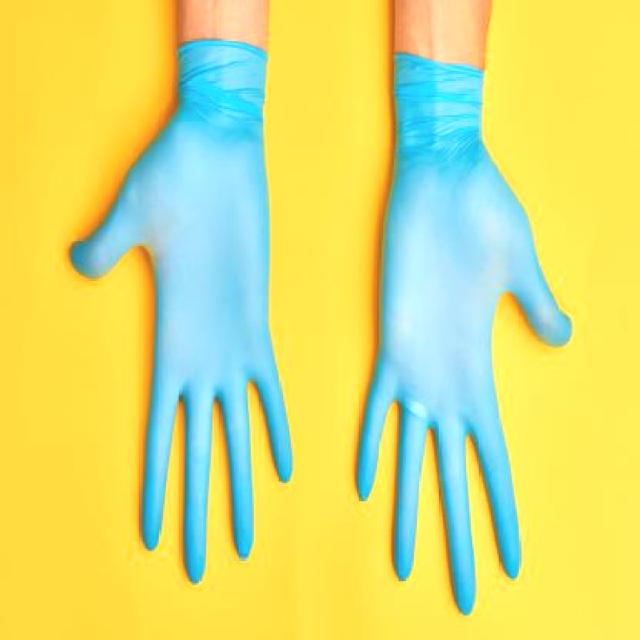glove: (64, 42, 313, 613), (338, 50, 576, 624)
